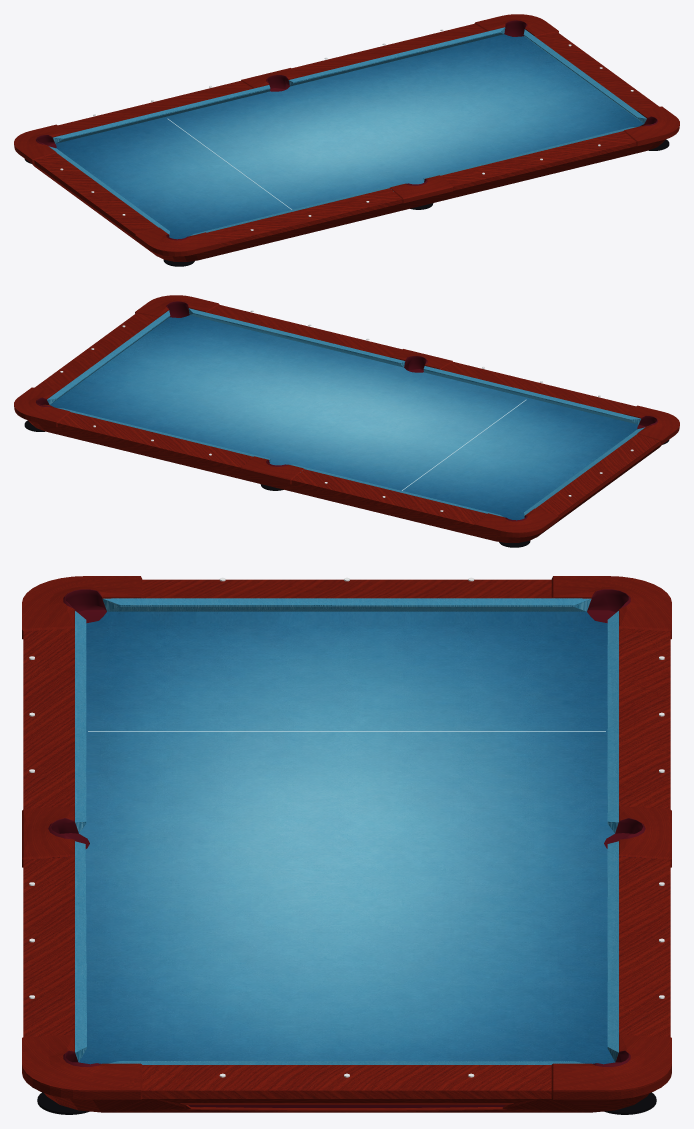
Rendered from pool-table.glb.
3 renders of one model, top to bottom at view 1: azimuth 30°, elevation 25°; view 2: azimuth 150°, elevation 25°; view 3: azimuth 270°, elevation 25°, orthographic. The views are drawn at different scales.
Visible parts, largest first — view 1: poolcloth, pooltable, panels, pockets; view 2: poolcloth, pooltable, panels, pockets; view 3: poolcloth, pooltable, panels, pockets.
Boxes of the visible parts, x1=… form: poolcloth: x1=49, y1=27, x2=646, y2=239; pooltable: x1=32, y1=23, x2=665, y2=261; panels: x1=14, y1=14, x2=679, y2=256; pockets: x1=36, y1=20, x2=657, y2=240; poolcloth: x1=47, y1=308, x2=644, y2=520; pooltable: x1=28, y1=304, x2=661, y2=542; panels: x1=14, y1=295, x2=679, y2=537; pockets: x1=36, y1=301, x2=657, y2=521; poolcloth: x1=75, y1=598, x2=618, y2=1064; pooltable: x1=23, y1=579, x2=670, y2=1112; panels: x1=22, y1=576, x2=671, y2=1111; pockets: x1=48, y1=589, x2=645, y2=1111.
Size of the model in its own units: 1038 by 40.9 by 555.
8 materials, 4 textured.
